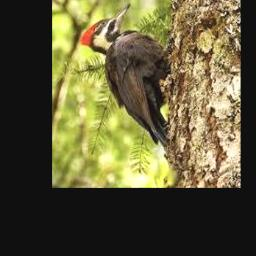Woodpecker: (80, 3, 171, 148)
